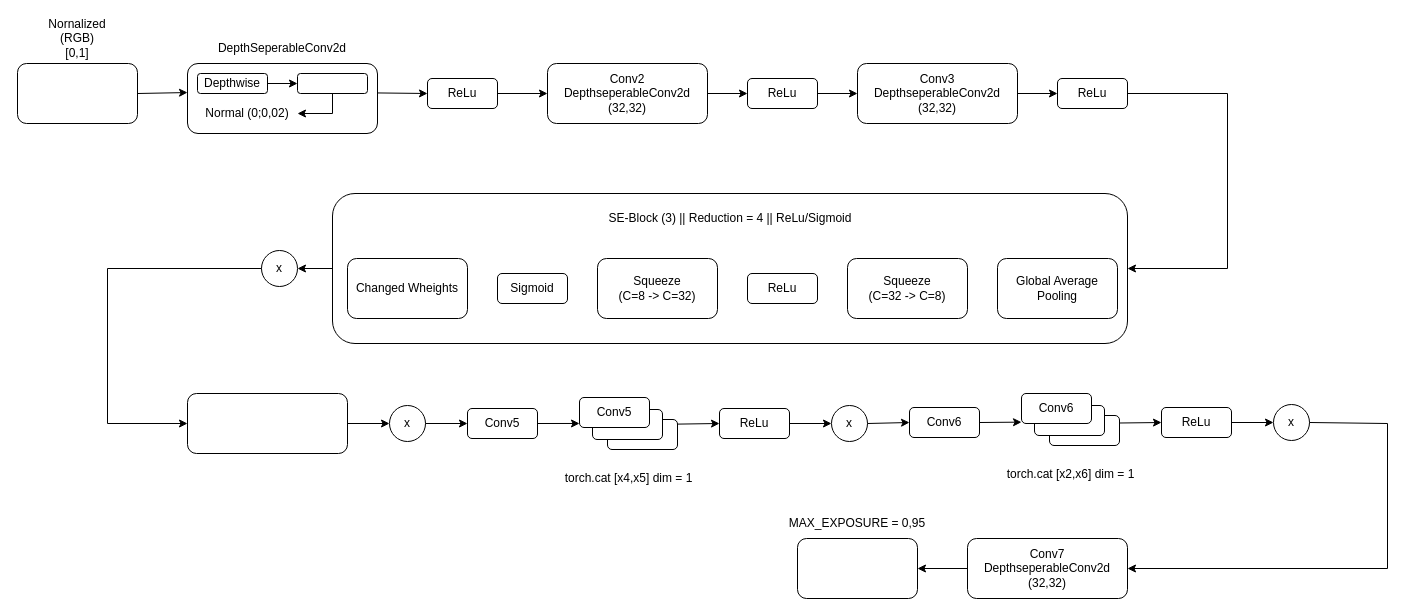
Image size: 1413x616. Some labels were removed from this diagram. The centre of each missing label's shape, as x and y in pixels:
"Conv4 DepthseperableConv2d (32,32)" goes at (267,423).
"Input Image" goes at (77,93).
"Postwise" goes at (332,83).
"Shared Curve Map (a_map) [B, 3, H, W]" goes at (857,568).
